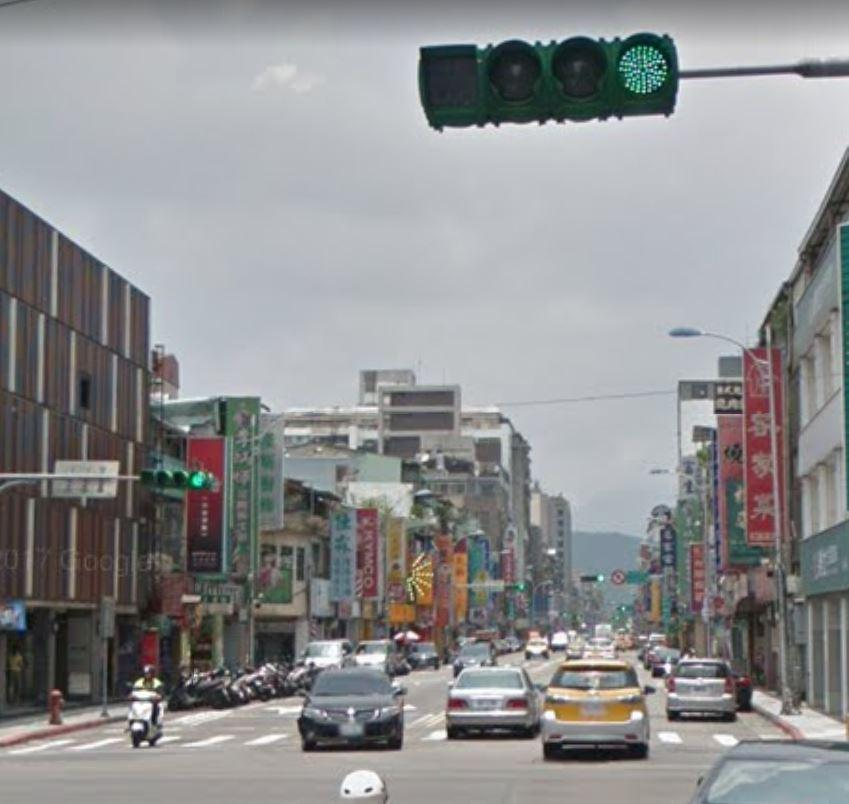car: (295, 650, 409, 757), (539, 658, 652, 757), (442, 660, 539, 737), (660, 650, 744, 732), (522, 635, 552, 659)
green_traffic_light: (414, 25, 683, 131), (136, 465, 220, 493)
motorcycle: (123, 679, 166, 747)
